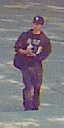person: (11, 10, 53, 113)
